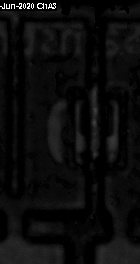led: (67, 87, 127, 170)
